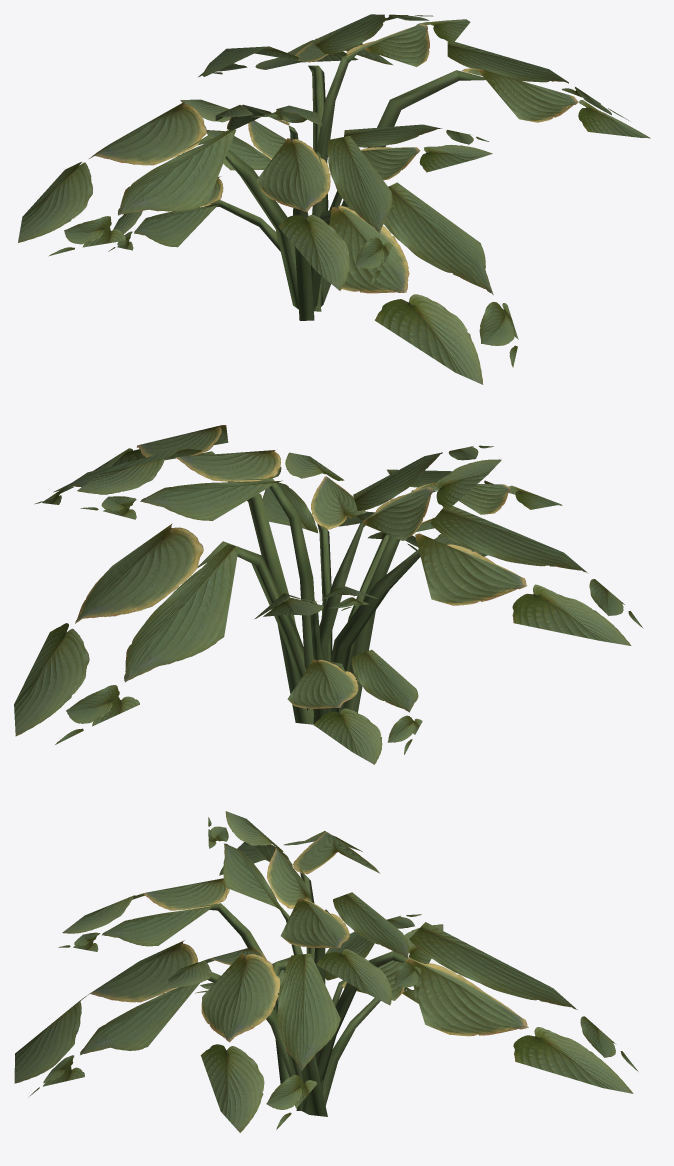
Rendered from plant.obj.
3 views of the same model, one above another, from view 1: azimuth 30°, elevation 25°; view 2: azimuth 150°, elevation 25°; view 3: azimuth 270°, elevation 25° (orthographic). The views are drawn at different scales.
Visible parts, largest first — view 1: small_plant_01:small_plant_01; view 2: small_plant_01:small_plant_01; view 3: small_plant_01:small_plant_01.
Boxes of the visible parts, left/top/right/bottom form: small_plant_01:small_plant_01: left=18, top=14, right=650, bottom=384; small_plant_01:small_plant_01: left=14, top=425, right=643, bottom=764; small_plant_01:small_plant_01: left=14, top=811, right=638, bottom=1132.
Bounding box in the file's own units: 1.99 × 0.7813 × 1.88.
1 material, 1 textured.
